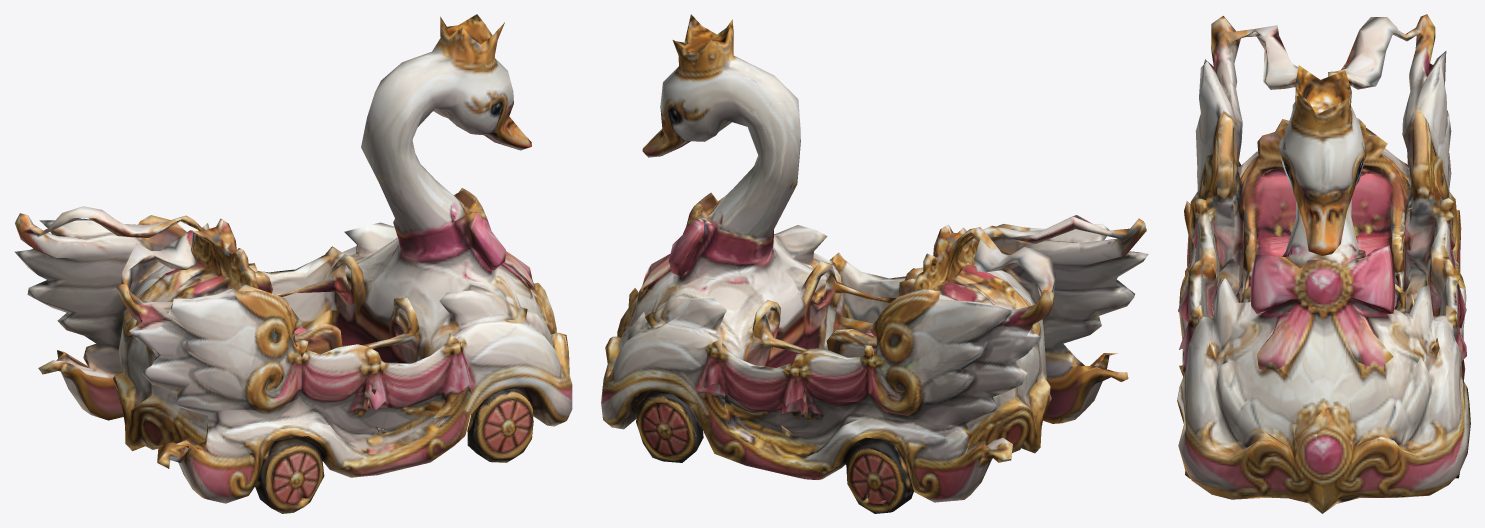
Rendered from 롯데_퍼레이드카2.glb.
The picture shows the model from 3 angles, left to right: view 1: azimuth 30°, elevation 25°; view 2: azimuth 150°, elevation 25°; view 3: azimuth 270°, elevation 25°; orthographic projection. The views are drawn at different scales.
Visible parts, largest first — view 1: texture_mapping; view 2: texture_mapping; view 3: texture_mapping.
Part boxes in pixels (box(x1,y1,x2,y2)): texture_mapping: box(15, 14, 572, 513); texture_mapping: box(601, 14, 1148, 513); texture_mapping: box(1177, 14, 1470, 513).
Bounding box in the file's own units: 1 × 0.7806 × 0.5001.
Materials: 1 (1 with a texture image).
